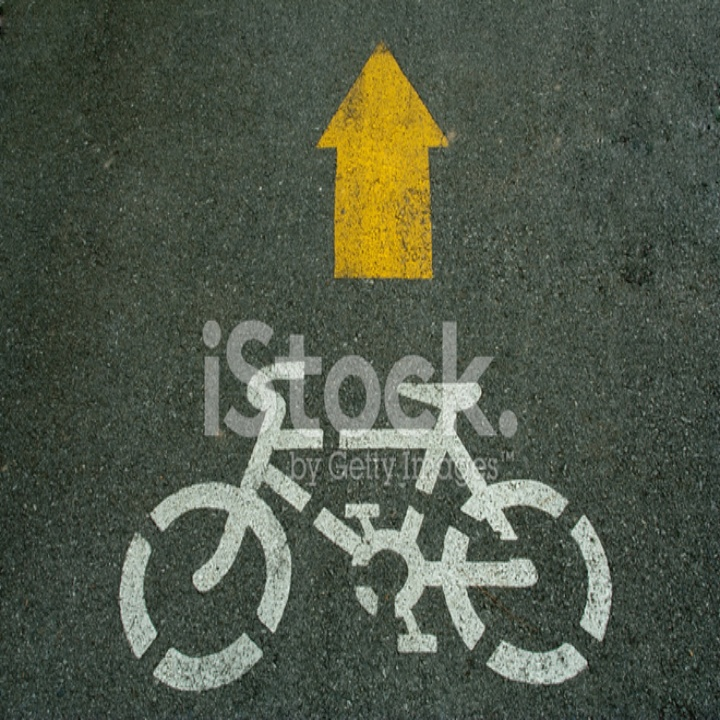bicycle: (115, 355, 613, 695)
